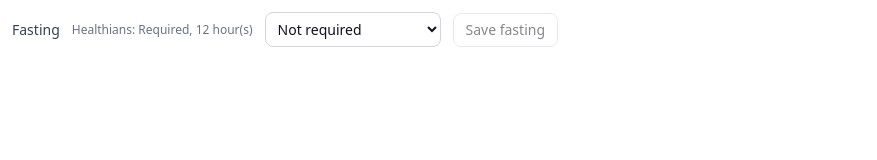
Test: FastingOverrideControl › shows the server error
Select "Not required" in the dropdown labelled "Fasting" at (352, 30), box [264,12,440,47]
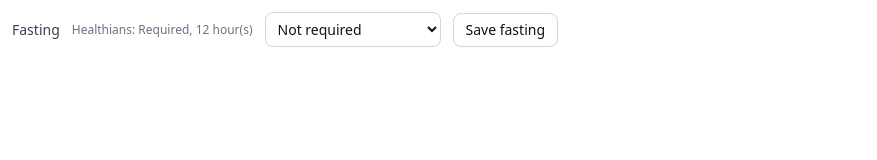
Click the button "Save fasting" at (505, 30), box [452,12,558,46]
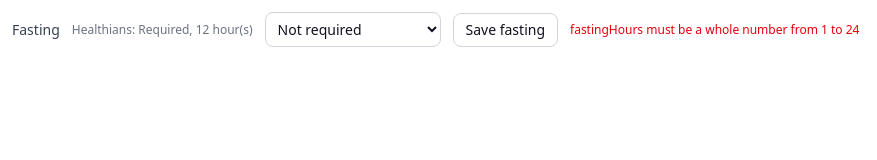
Now the text "fastingHours must be a whole number from 1 to 24" is shown, box [570,20,859,38]
